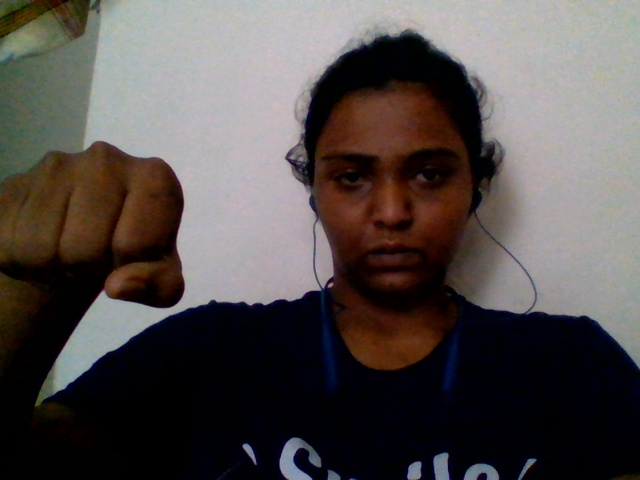Yes: (11, 113, 201, 323)
